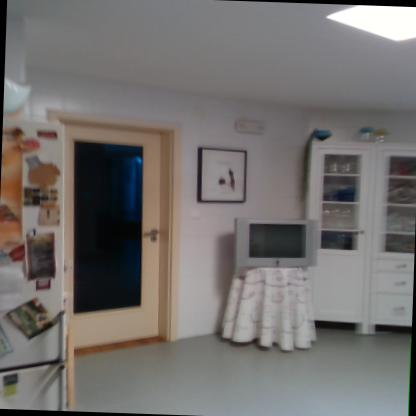closed: (37, 109, 186, 379)
